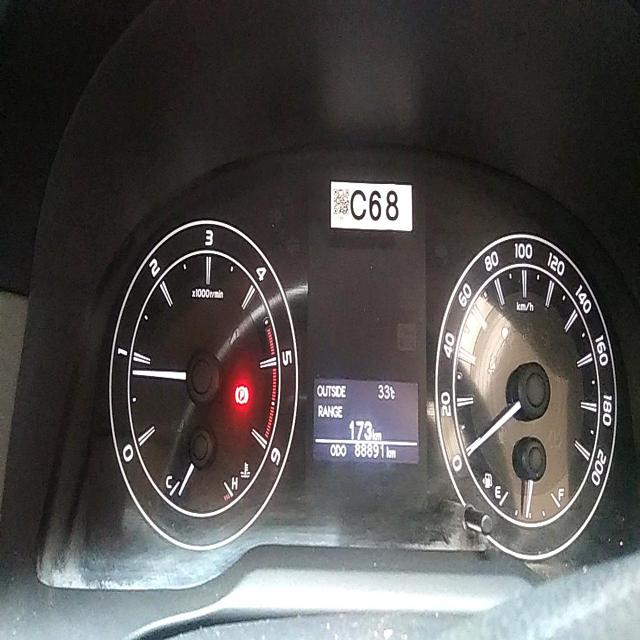odometer: (351, 441, 385, 459)
